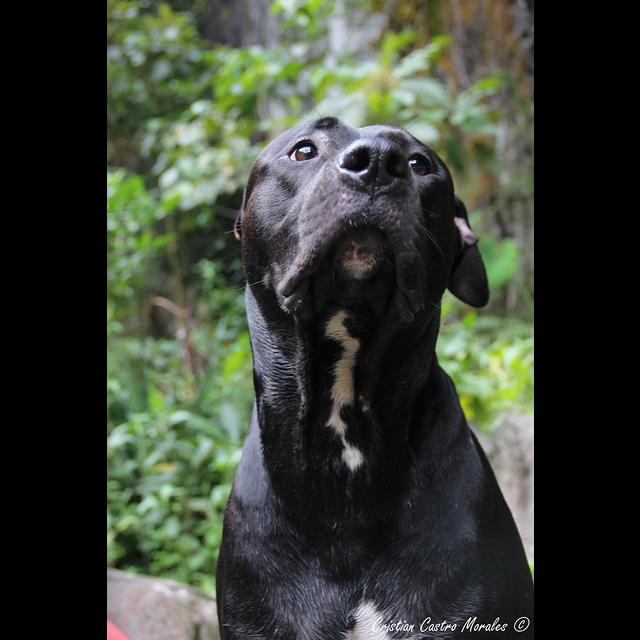am_pit_bull_terrier: (214, 115, 533, 640)
